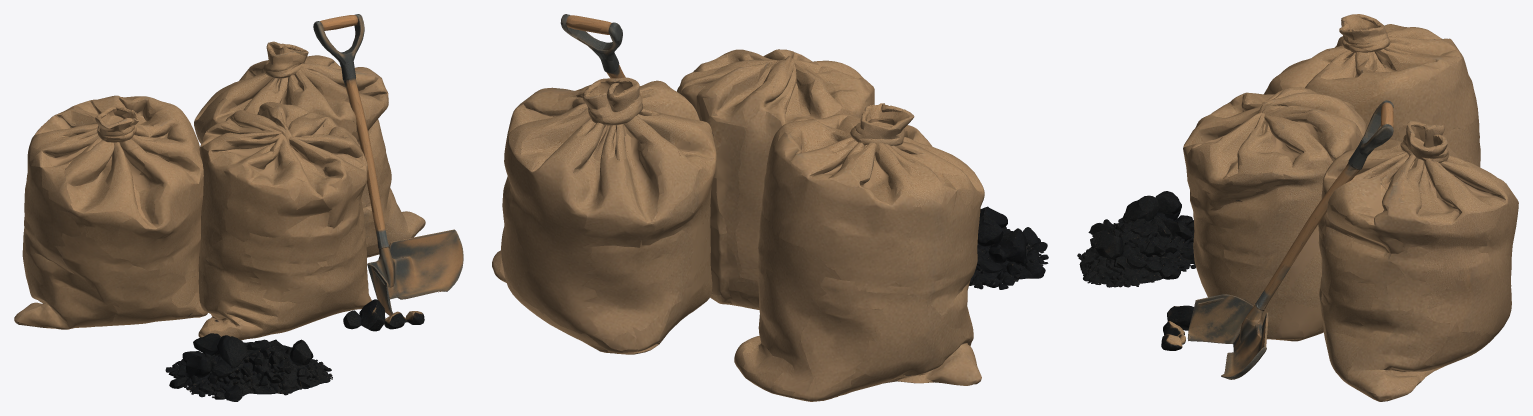
The model's file is coal_sacks_shovel.glb.
The picture shows the model from 3 angles, left to right: view 1: azimuth 30°, elevation 25°; view 2: azimuth 150°, elevation 25°; view 3: azimuth 270°, elevation 25°; orthographic projection. The views are drawn at different scales.
Bounding box in the file's own units: 1.9 × 1.02 × 1.64.
1 material, 1 textured.
